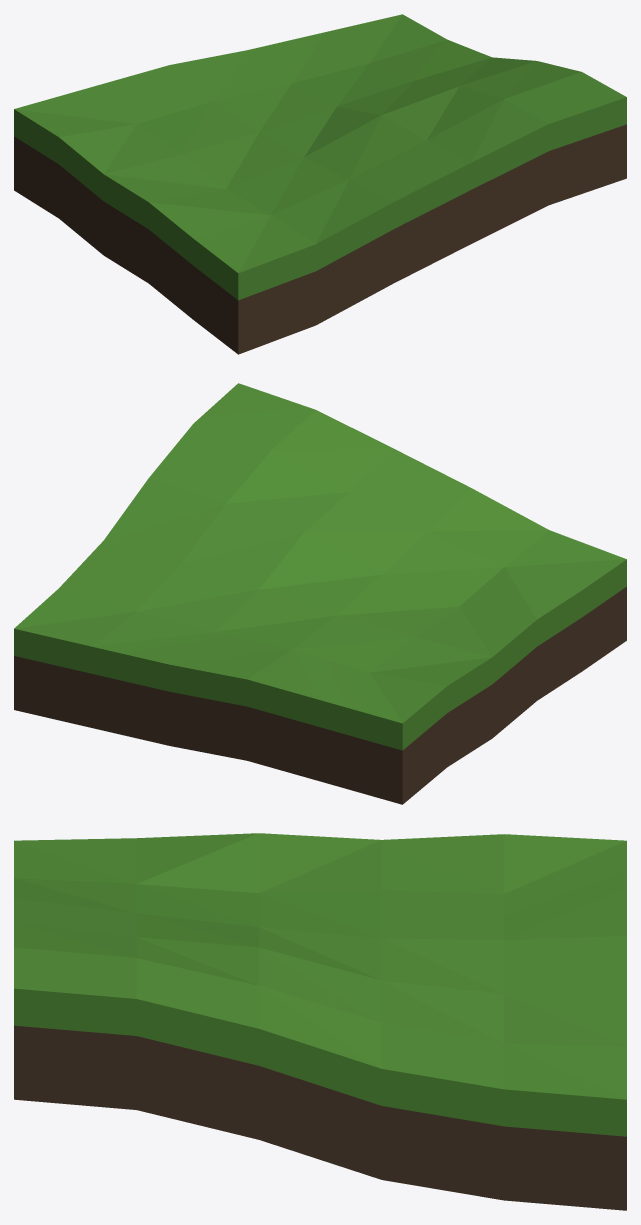
The model's file is terrain-world-hill2.glb.
3 renders of one model, top to bottom at view 1: azimuth 30°, elevation 25°; view 2: azimuth 150°, elevation 25°; view 3: azimuth 270°, elevation 25°, orthographic. The views are drawn at different scales.
Visible parts, largest first — view 1: terrain-world-hill2; view 2: terrain-world-hill2; view 3: terrain-world-hill2.
Part boxes in pixels (left/top/right/bottom): terrain-world-hill2: left=14, top=14, right=626, bottom=354; terrain-world-hill2: left=14, top=383, right=626, bottom=804; terrain-world-hill2: left=14, top=833, right=626, bottom=1210.
Size of the model in its own units: 30 by 12 by 30.
Materials: 1 (1 with a texture image).
